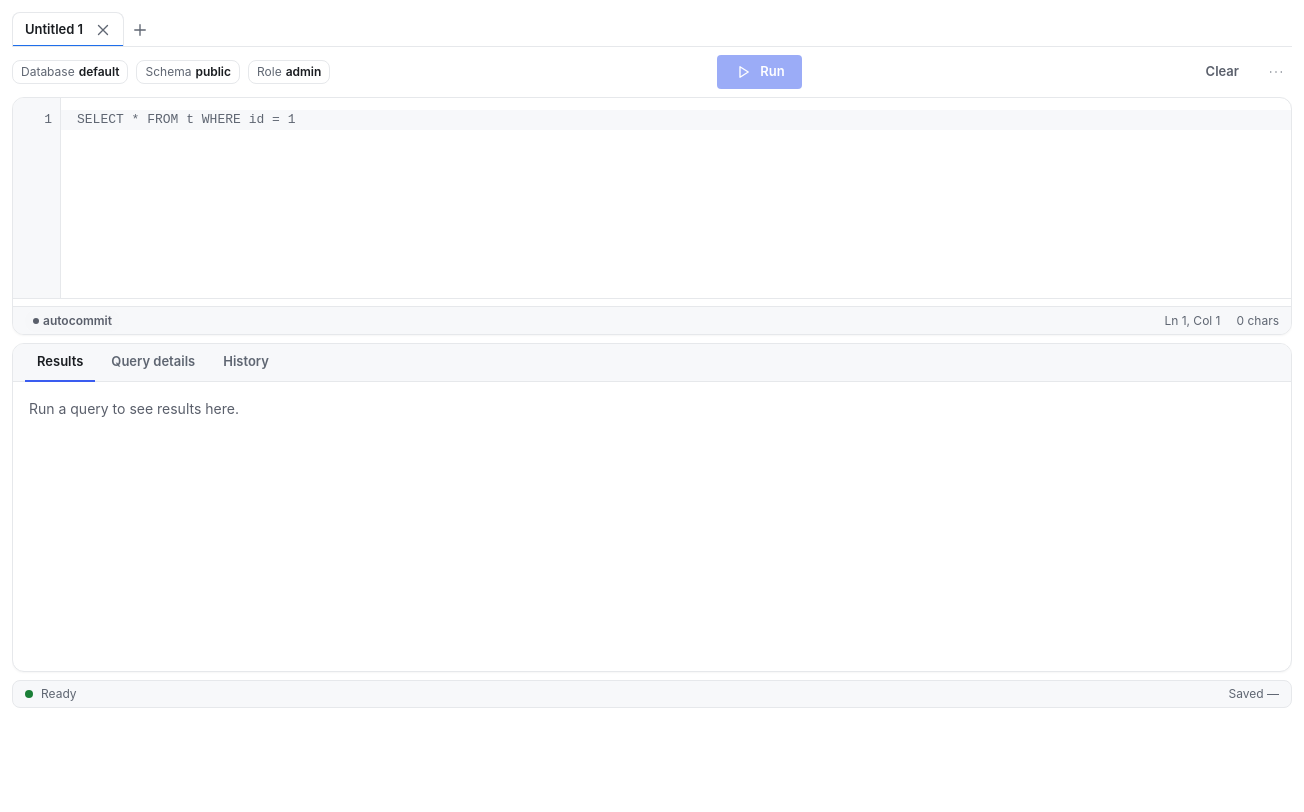
it: SqlConsolePage › Clear resets the editor and result
The image size is (1304, 812).
Type "SELECT 1" into the text box named "SQL". click: (676, 198)
box: [61,98,1291,298]
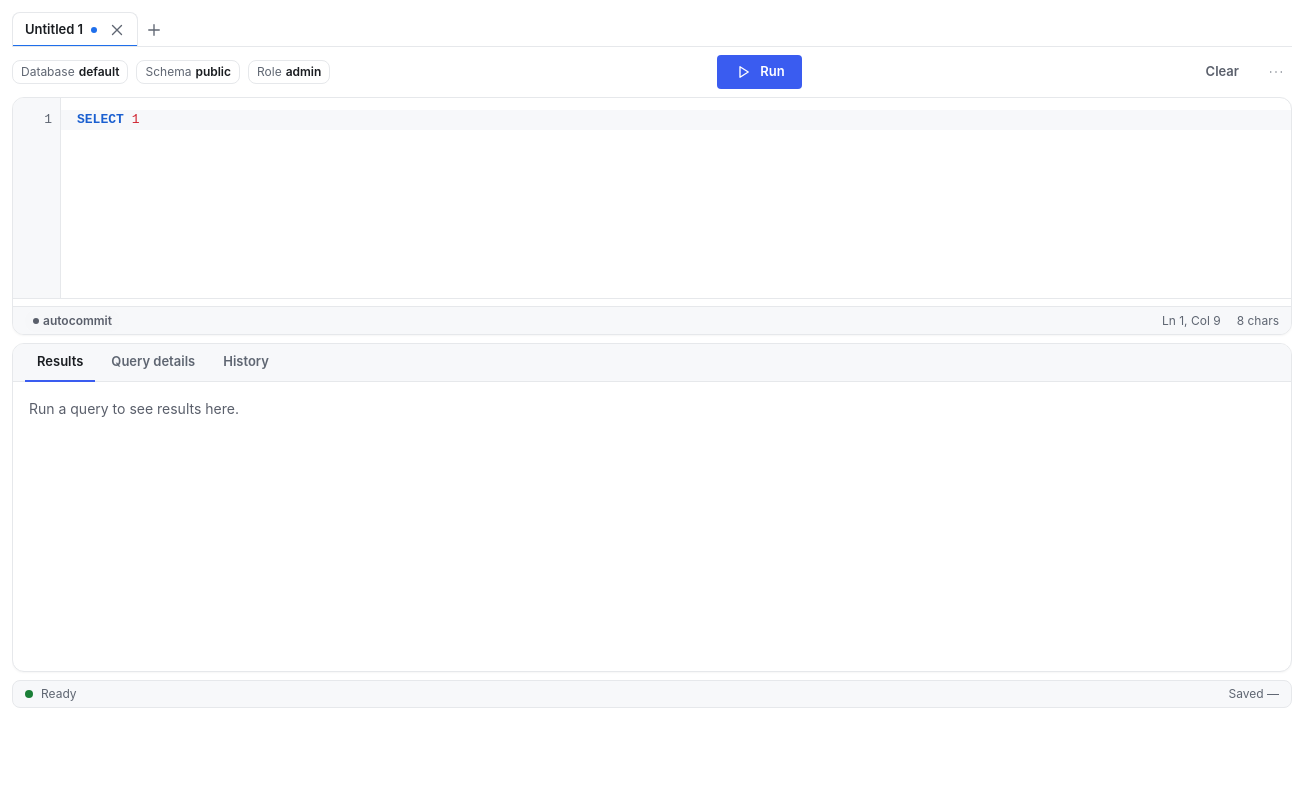
Click the button "Run". click: (760, 72)
box: [717,55,802,89]
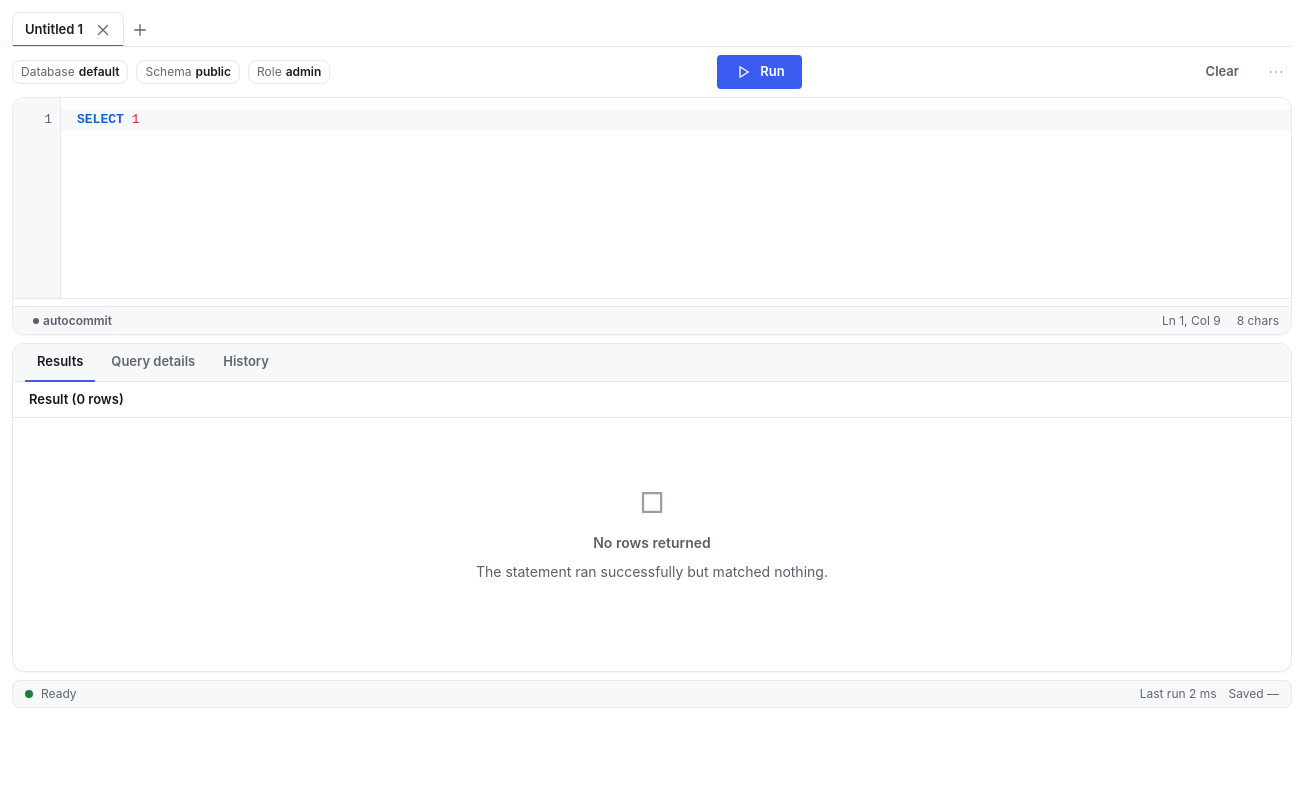
Now the text "Result (0 rows)" is shown, box [29,390,124,406]
Click the button "Clear". click: (1222, 72)
box: [1189,55,1256,89]
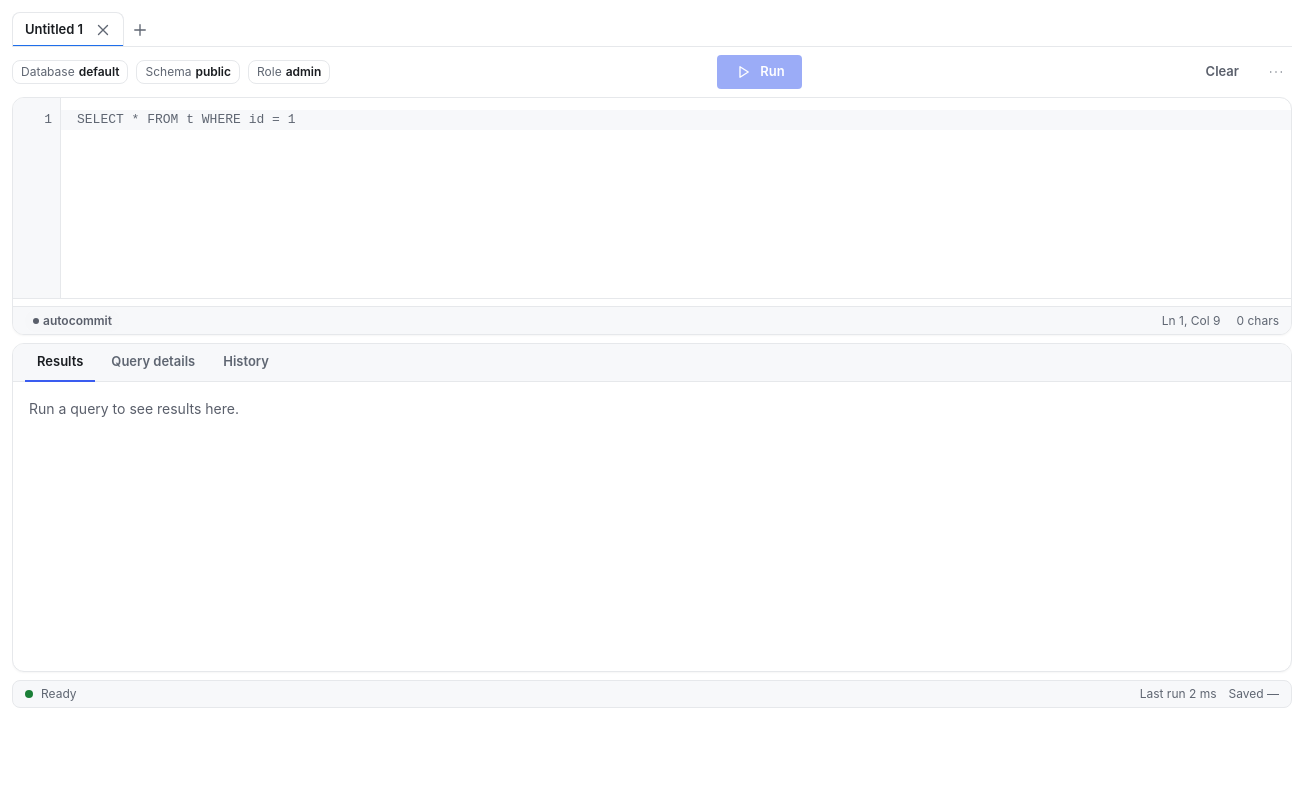
Now the text box named "SQL" is empty, box [61,98,1291,298]
Now the text "Result (0 rows)" is gone
